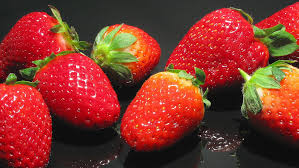strawberry: (161, 6, 270, 92), (119, 70, 207, 155), (32, 49, 122, 129), (1, 8, 78, 81), (1, 77, 55, 167), (240, 59, 299, 140), (92, 21, 163, 84)
